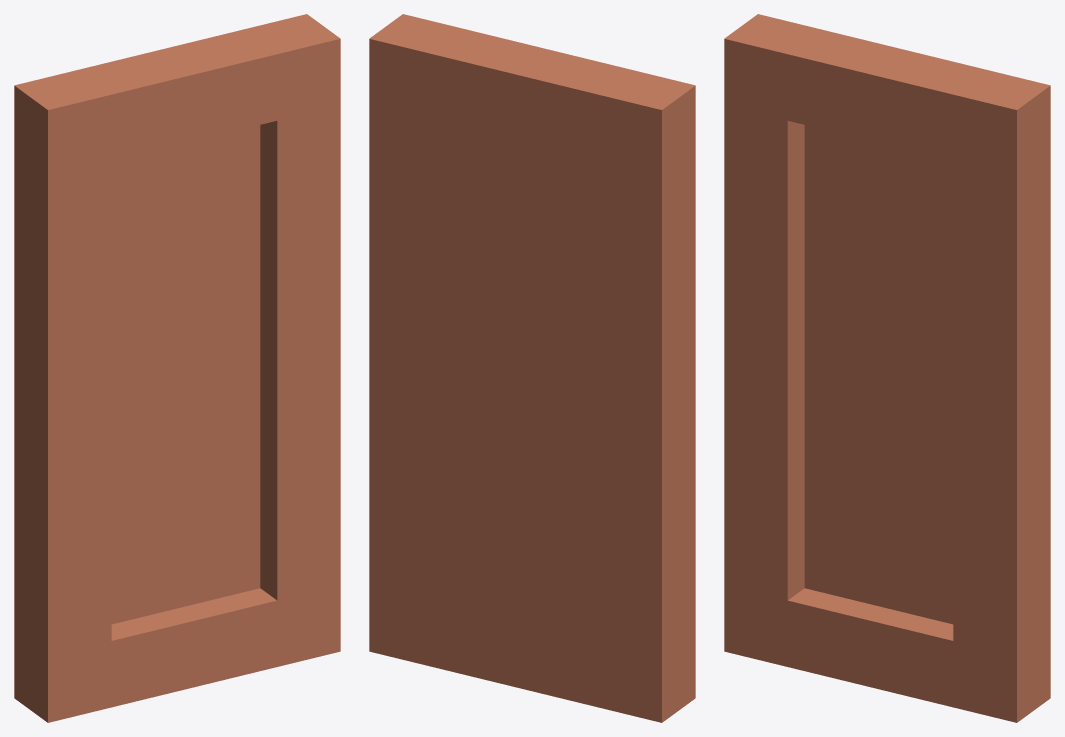
The model's file is door-brown-glass.obj.
3 renders of one model, left to right at view 1: azimuth 30°, elevation 25°; view 2: azimuth 150°, elevation 25°; view 3: azimuth 330°, elevation 25°, orthographic.
Bounding box in the file's own units: 0.25 × 0.5 × 0.05.
